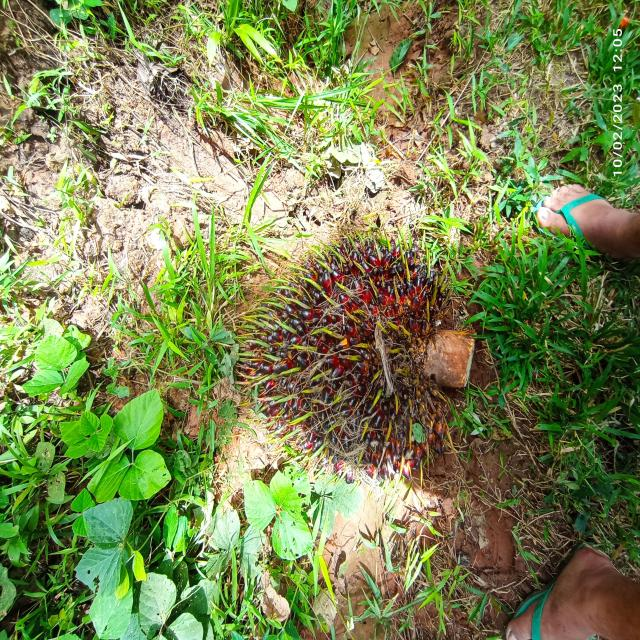fraksi 1: (217, 209, 531, 507)
